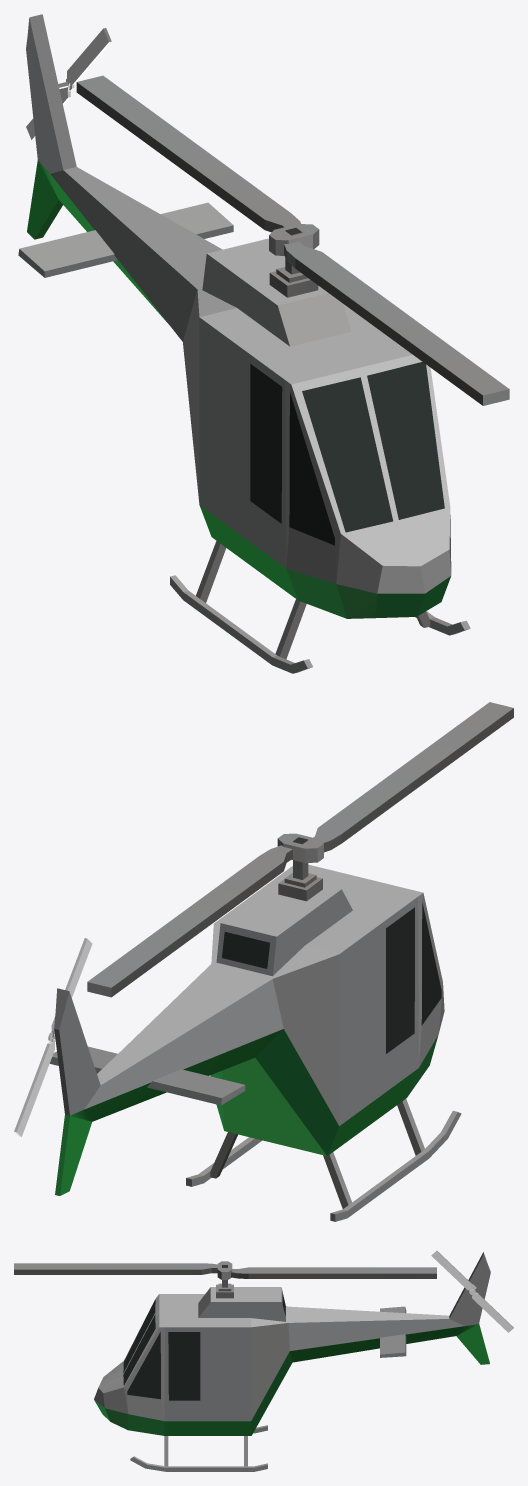
File: Small_Heli01.fbx
3 renders of one model, top to bottom at view 1: azimuth 30°, elevation 25°; view 2: azimuth 150°, elevation 25°; view 3: azimuth 270°, elevation 25°, orthographic. The views are drawn at different scales.
Visible parts, largest first — view 1: Small_Heli01; view 2: Small_Heli01; view 3: Small_Heli01.
Boxes of the visible parts, left/top/right/bottom form: Small_Heli01: left=18, top=14, right=509, bottom=673; Small_Heli01: left=14, top=702, right=513, bottom=1221; Small_Heli01: left=14, top=1250, right=513, bottom=1471.
Bounding box in the file's own units: 2.97 × 6.22 × 13.63.
